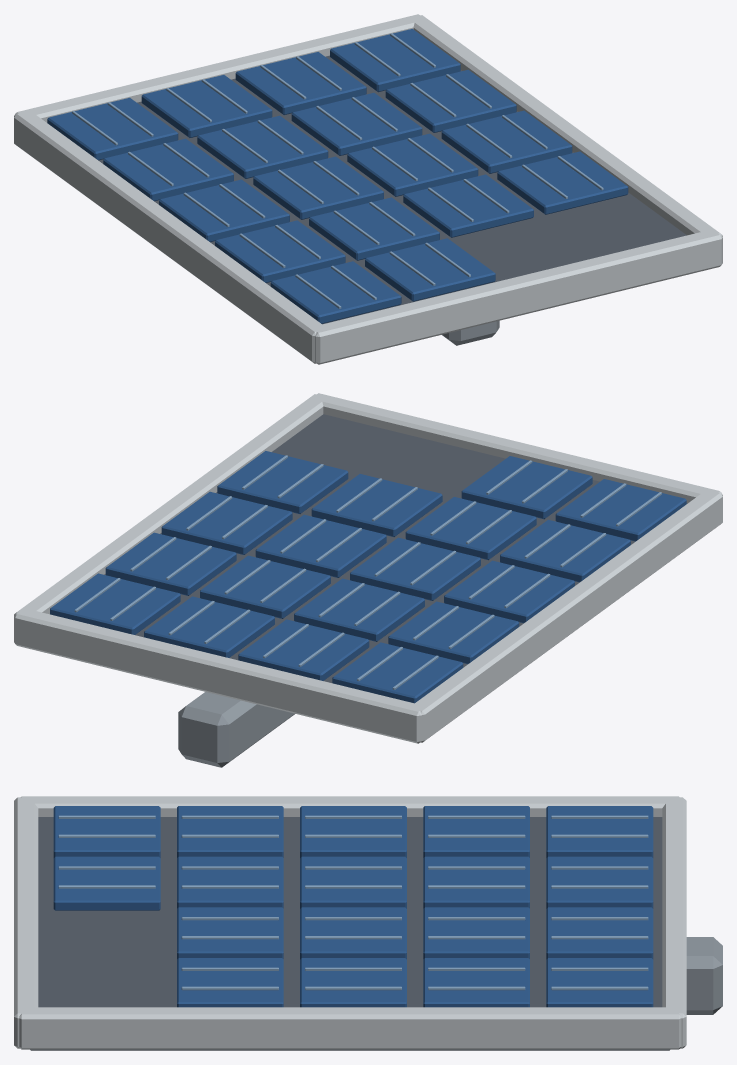
The model's file is 06_solar_fragment.glb.
3 renders of one model, top to bottom at view 1: azimuth 30°, elevation 25°; view 2: azimuth 150°, elevation 25°; view 3: azimuth 270°, elevation 25°, orthographic. The views are drawn at different scales.
Visible parts, largest first — view 1: 06_solar_fragment; view 2: 06_solar_fragment; view 3: 06_solar_fragment.
Boxes of the visible parts, bbox=[...] form: 06_solar_fragment: bbox=[14, 14, 722, 364]; 06_solar_fragment: bbox=[14, 393, 722, 767]; 06_solar_fragment: bbox=[14, 796, 722, 1050].
Size of the model in its own units: 1.62 by 0.3505 by 2.19.
